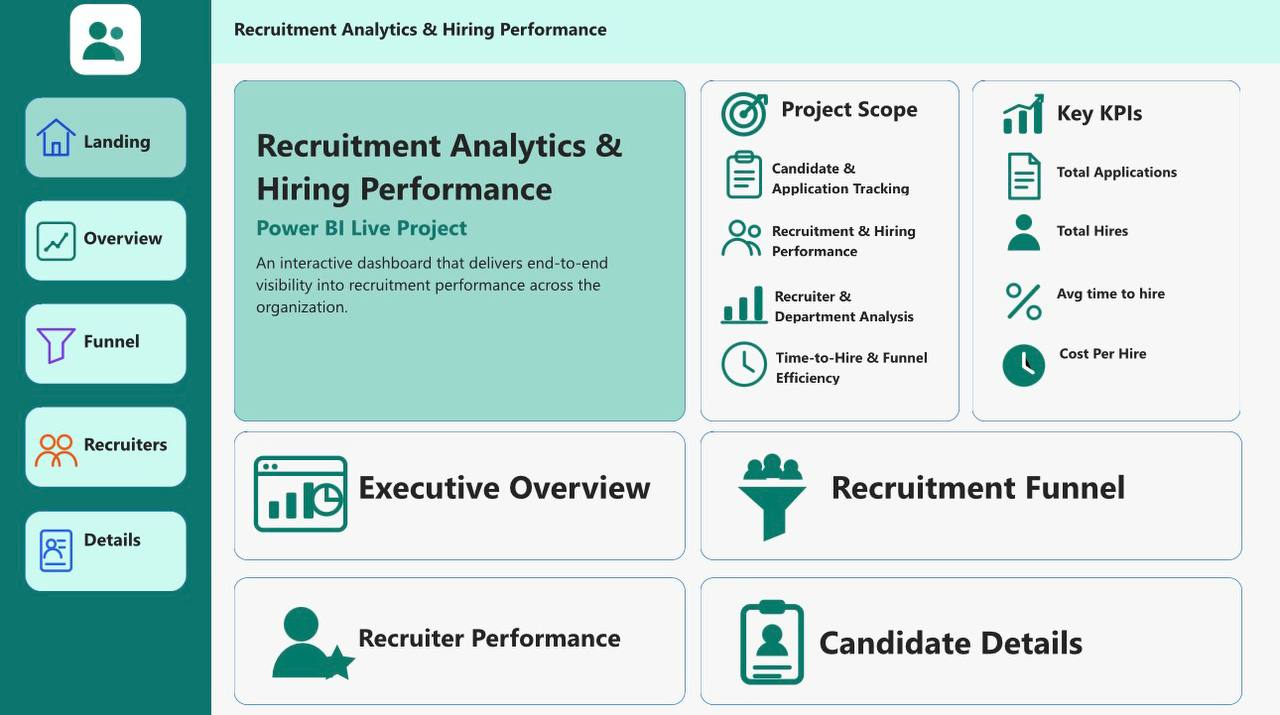

Layout of this report page (visuals, bound fields, positions):
{"tool":"powerbi","page":{"name":"Landing","canvas":[1920,1080],"ordinal":0},"visuals":[{"type":"shape","box":[0,0,317,1080.6],"z":0},{"type":"shape","box":[37,146.2,242.9,121.4],"z":1},{"type":"shape","box":[37,302.6,242.9,121.4],"z":2},{"type":"shape","box":[37,457,242.9,121.4],"z":3},{"type":"shape","box":[37,611.4,242.9,121.4],"z":4},{"type":"shape","box":[37,767.8,242.9,121.4],"z":5},{"type":"image","box":[43.2,168.8,82.3,80.3],"z":6},{"type":"image","box":[43.2,323.2,82.3,80.3],"z":7},{"type":"image","box":[43.2,477.6,82.3,80.3],"z":8},{"type":"image","box":[43.2,634,82.3,80.3],"z":9},{"type":"image","box":[43.2,788.4,82.3,80.3],"z":10},{"type":"shape","box":[316.6,0,1603.4,96.7],"z":11},{"type":"textbox","box":[349.9,24.7,609.3,49.4],"z":12},{"type":"textbox","box":[125.6,193.5,107,49.4],"z":13},{"type":"textbox","box":[125.6,339.6,127.6,49.4],"z":14},{"type":"textbox","box":[125.6,494,107,49.4],"z":15},{"type":"textbox","box":[125.6,648.4,127.6,49.4],"z":16},{"type":"textbox","box":[125.6,792.5,107,49.4],"z":17},{"type":"image","box":[8.2,0,300.5,121.4],"z":18},{"type":"shape","box":[349.9,121.4,677.2,512.5],"z":19},{"type":"shape","box":[1049.7,121.4,389,512.5],"z":20},{"type":"shape","box":[1457.3,121.4,403.4,512.5],"z":21},{"type":"shape","box":[1049.7,648.4,813,193.5],"z":22},{"type":"shape","box":[349.9,648.4,677.2,193.5],"z":23},{"type":"shape","box":[349.9,868.6,677.2,191.4],"z":24},{"type":"shape","box":[1049.7,868.6,813,191.4],"z":25},{"type":"textbox","box":[384.9,183.2,609.3,140],"z":26},{"type":"textbox","box":[384.9,319,333.4,45.3],"z":27},{"type":"image","box":[364.3,656.6,172.9,177],"z":28},{"type":"image","box":[1072.4,656.6,172.9,177],"z":29},{"type":"image","box":[1072.4,876.8,172.9,177],"z":30},{"type":"image","box":[378.7,876.8,172.9,177],"z":31},{"type":"image","box":[1064.2,216.1,105,96.7],"z":32},{"type":"image","box":[1064.2,306.7,105,96.7],"z":33},{"type":"image","box":[1064.2,403.4,105,96.7],"z":34},{"type":"image","box":[1064.2,500.2,105,96.7],"z":35},{"type":"image","box":[1484.1,218.2,105,96.7],"z":36},{"type":"image","box":[1484.1,302.6,105,96.7],"z":37},{"type":"image","box":[1484.1,405.5,105,96.7],"z":38},{"type":"image","box":[1484.1,502.2,105,96.7],"z":39},{"type":"image","box":[1066.2,121.4,105,96.7],"z":40},{"type":"image","box":[1484.1,123.5,105,96.7],"z":41},{"type":"textbox","box":[537.2,697.8,456.9,70],"z":42},{"type":"textbox","box":[537.2,930.4,422,70],"z":43},{"type":"textbox","box":[1228.8,930.4,456.9,70],"z":44},{"type":"textbox","box":[1245.3,697.8,456.9,70],"z":45},{"type":"textbox","box":[1171.2,142,232.6,57.6],"z":46},{"type":"textbox","box":[1584.9,146.1,232.6,57.6],"z":47},{"type":"textbox","box":[1584.9,242.9,232.6,57.6],"z":48},{"type":"textbox","box":[1584.9,331.4,232.6,57.6],"z":49},{"type":"textbox","box":[1584.9,426.1,232.6,57.6],"z":50},{"type":"textbox","box":[1589,514.6,232.6,57.6],"z":51},{"type":"textbox","box":[384.9,378.7,609.3,123.5],"z":52},{"type":"textbox","box":[1158.8,236.7,232.6,57.6],"z":53},{"type":"textbox","box":[1158.8,331.4,232.6,57.6],"z":54},{"type":"textbox","box":[1160.9,428.1,232.6,57.6],"z":55},{"type":"textbox","box":[1163,520.8,232.6,57.6],"z":56}]}

Visuals, with their boxes in screenshot pixels (x1, y1, x2, y2), scaled from the page's 1920x1080 canvas onto the 1280x715 screenshot:
shape: 0/0/211/714
shape: 25/97/187/177
shape: 25/200/187/281
shape: 25/303/187/383
shape: 25/405/187/485
shape: 25/508/187/589
image: 29/112/84/165
image: 29/214/84/267
image: 29/316/84/369
image: 29/420/84/473
image: 29/522/84/575
shape: 211/0/1279/64
textbox: 233/16/639/49
textbox: 84/128/155/161
textbox: 84/225/169/258
textbox: 84/327/155/360
textbox: 84/429/169/462
textbox: 84/525/155/557
image: 5/0/206/80
shape: 233/80/685/420
shape: 700/80/959/420
shape: 972/80/1240/420
shape: 700/429/1242/557
shape: 233/429/685/557
shape: 233/575/685/702
shape: 700/575/1242/702
textbox: 257/121/663/214
textbox: 257/211/479/241
image: 243/435/358/552
image: 715/435/830/552
image: 715/580/830/698
image: 252/580/368/698
image: 709/143/779/207
image: 709/203/779/267
image: 709/267/779/331
image: 709/331/779/395
image: 989/144/1059/208
image: 989/200/1059/264
image: 989/268/1059/332
image: 989/332/1059/396
image: 711/80/781/144
image: 989/82/1059/146
textbox: 358/462/663/508
textbox: 358/616/639/662
textbox: 819/616/1124/662
textbox: 830/462/1135/508
textbox: 781/94/936/132
textbox: 1057/97/1212/135
textbox: 1057/161/1212/199
textbox: 1057/219/1212/258
textbox: 1057/282/1212/320
textbox: 1059/341/1214/379
textbox: 257/251/663/332
textbox: 773/157/928/195
textbox: 773/219/928/258
textbox: 774/283/929/322
textbox: 775/345/930/383
